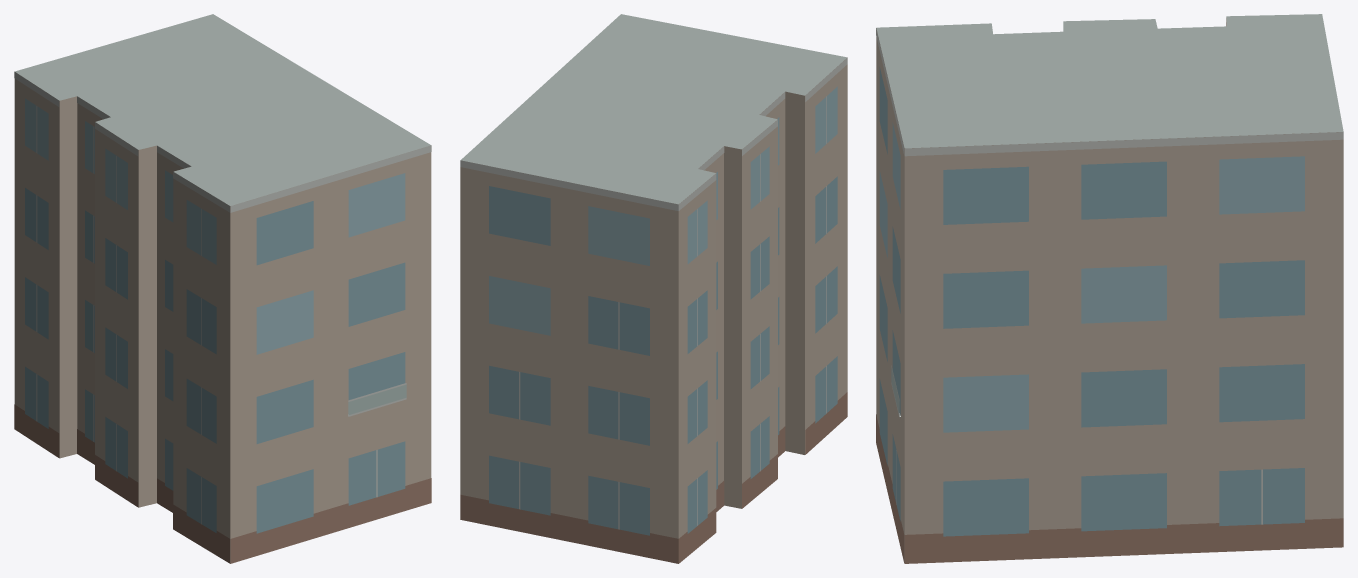
File: survey-upis-32975348.glb
The picture shows the model from 3 angles, left to right: view 1: azimuth 30°, elevation 25°; view 2: azimuth 150°, elevation 25°; view 3: azimuth 270°, elevation 25°; orthographic projection. The views are drawn at different scales.
Parts seen in each view (by area): view 1: survey-upis-32975348.tmp; view 2: survey-upis-32975348.tmp; view 3: survey-upis-32975348.tmp.
Boxes of the visible parts, left/top/right/bottom form: survey-upis-32975348.tmp: left=14, top=14, right=431, bottom=563; survey-upis-32975348.tmp: left=460, top=14, right=847, bottom=563; survey-upis-32975348.tmp: left=876, top=14, right=1343, bottom=563.
Bounding box in the file's own units: 8.96 × 12.9 × 13.16.
